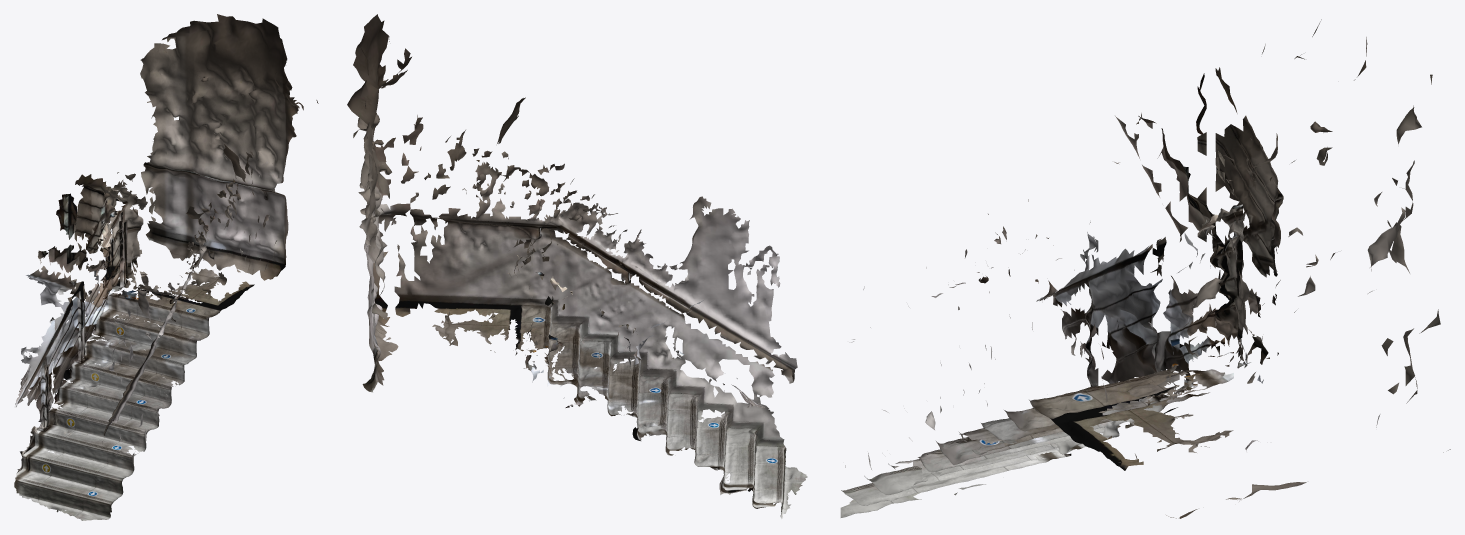
Rendered from 144290-tangga1ke2-tex.glb.
3 renders of one model, left to right at view 1: azimuth 30°, elevation 25°; view 2: azimuth 150°, elevation 25°; view 3: azimuth 270°, elevation 25°, orthographic. The views are drawn at different scales.
Visible parts, largest first — view 1: Node; view 2: Node; view 3: Node.
Boxes of the visible parts, x1,y1,x2,y2 form: Node: [14, 14, 318, 520]; Node: [347, 14, 807, 518]; Node: [840, 19, 1450, 518].
Bounding box in the file's own units: 4.36 × 4.83 × 3.59.
Materials: 6 (6 with a texture image).
